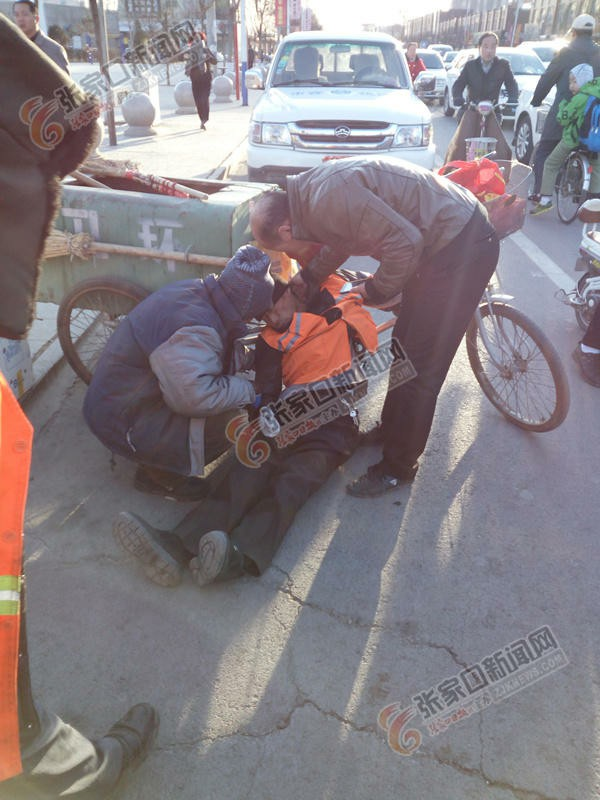fall: (86, 286, 386, 592)
